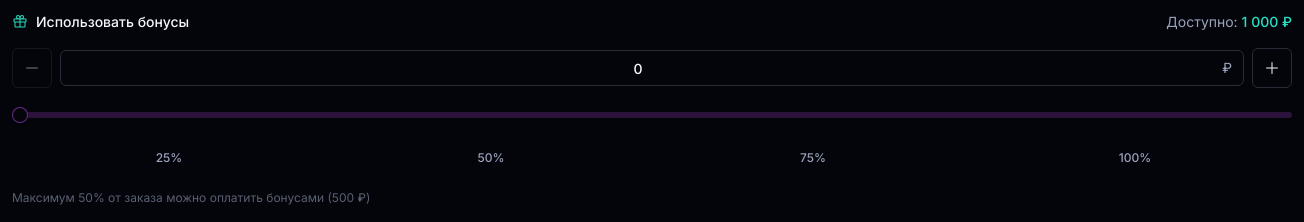
Test: BonusApplicator › Input handling › should only allow numeric input
Type "abc123def" into the field at (652, 68), box [60,50,1244,86]
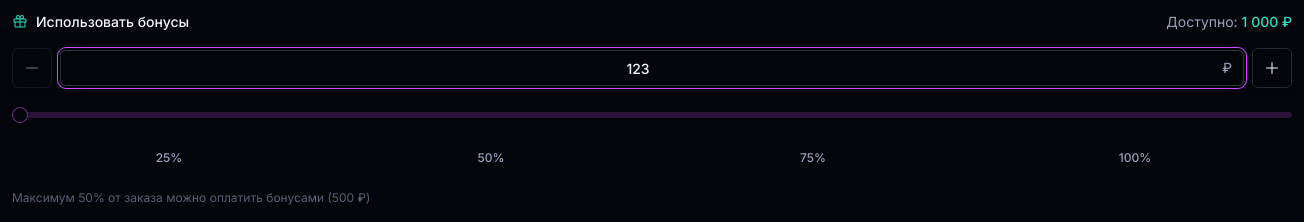
Expected: the field holds "123", [60,50,1244,86]
